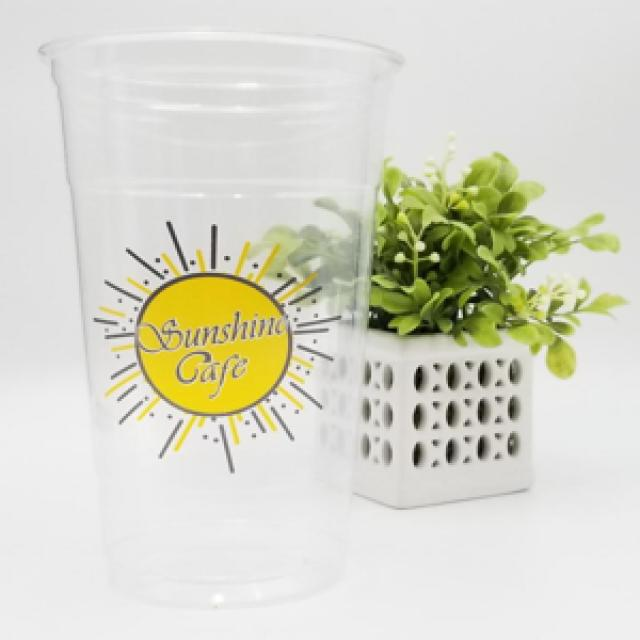plastic cup: (32, 24, 414, 616)
